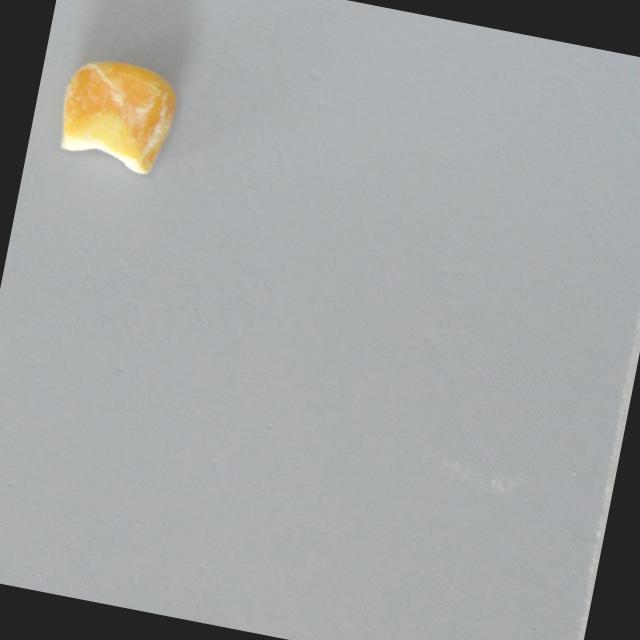pelicula: (49, 48, 183, 178)
